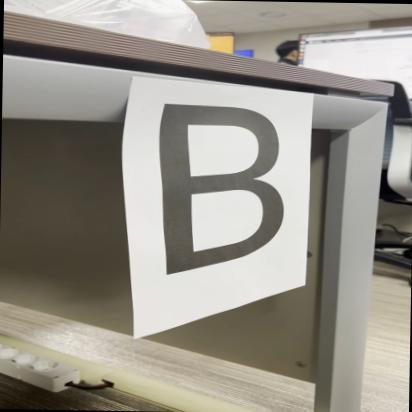seat: (142, 96, 284, 290)
